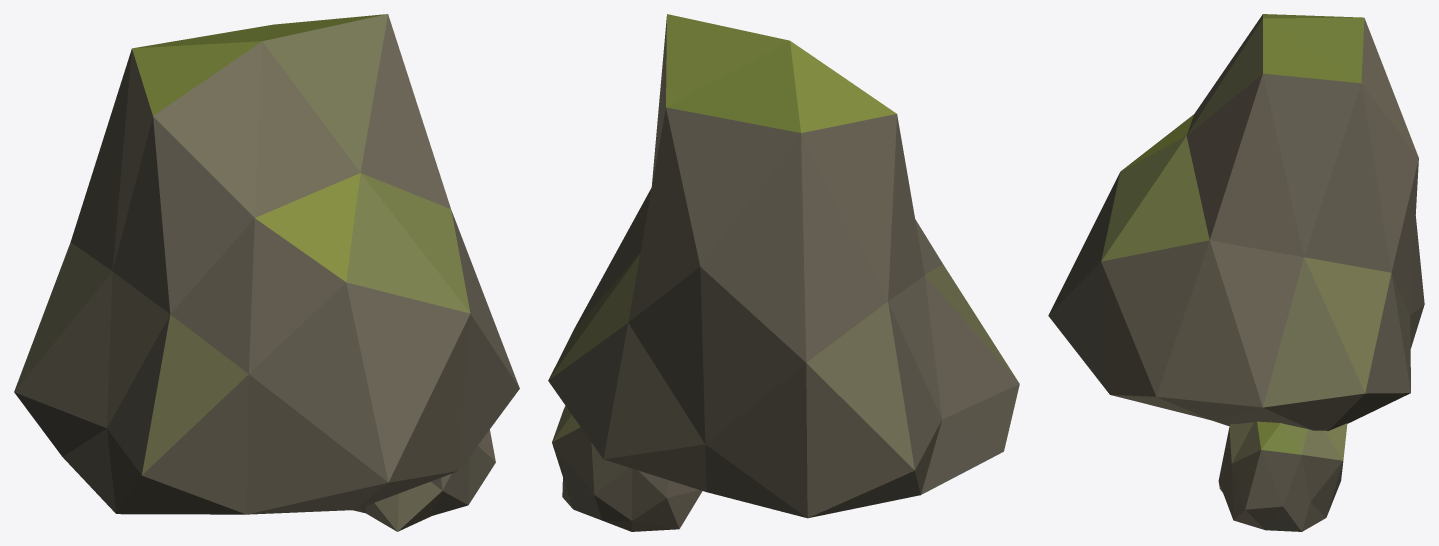
The model's file is cliff_b.glb.
3 views of the same model, side by side, from view 1: azimuth 30°, elevation 25°; view 2: azimuth 150°, elevation 25°; view 3: azimuth 270°, elevation 25° (orthographic). The views are drawn at different scales.
Visible parts, largest first — view 1: cliff_b_solid; view 2: cliff_b_solid; view 3: cliff_b_solid.
Boxes of the visible parts, box(x1,y1,x2,y2) form: cliff_b_solid: box(14, 14, 519, 531); cliff_b_solid: box(548, 14, 1019, 531); cliff_b_solid: box(1048, 14, 1424, 531).
Size of the model in its own units: 8.41 by 10.03 by 7.83.
